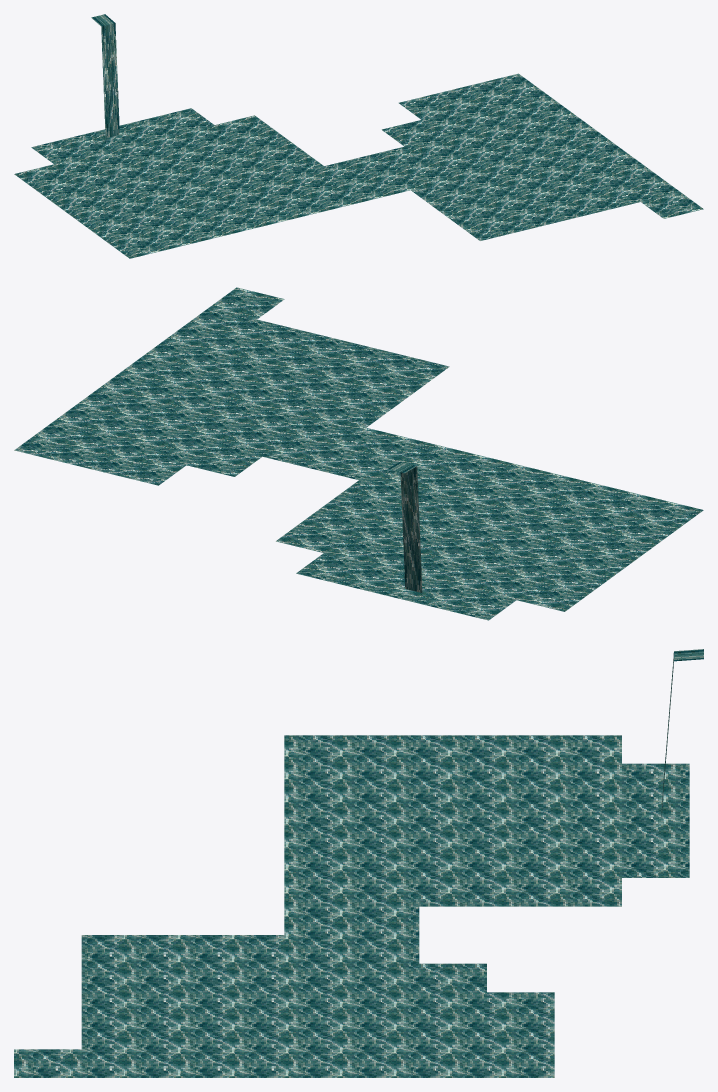
File: kokiri0-waterquads.obj
3 views of the same model, one above another, from view 1: azimuth 30°, elevation 25°; view 2: azimuth 150°, elevation 25°; view 3: azimuth 270°, elevation 25° (orthographic). The views are drawn at different scales.
Visible parts, largest first — view 1: FOREST.001.WaterQuads; view 2: FOREST.001.WaterQuads; view 3: FOREST.001.WaterQuads.
Boxes of the visible parts, left/top/right/bottom form: FOREST.001.WaterQuads: left=14, top=14, right=703, bottom=258; FOREST.001.WaterQuads: left=14, top=287, right=703, bottom=620; FOREST.001.WaterQuads: left=14, top=649, right=703, bottom=1077.
Bounding box in the file's own units: 1303 × 285 × 1109.
Materials: 1 (1 with a texture image).
